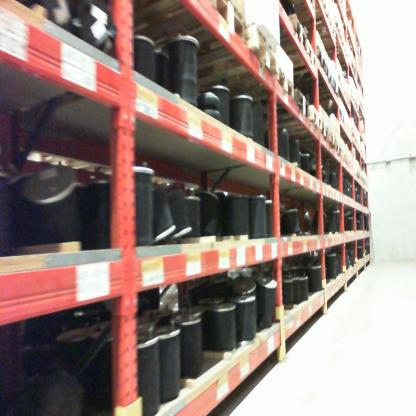pallet: (155, 20, 294, 109), (88, 2, 249, 78), (268, 46, 335, 78), (256, 40, 324, 68), (251, 11, 311, 42), (255, 92, 311, 120), (265, 108, 322, 134), (283, 74, 343, 97), (284, 126, 331, 149), (317, 128, 339, 150), (337, 145, 343, 161)
